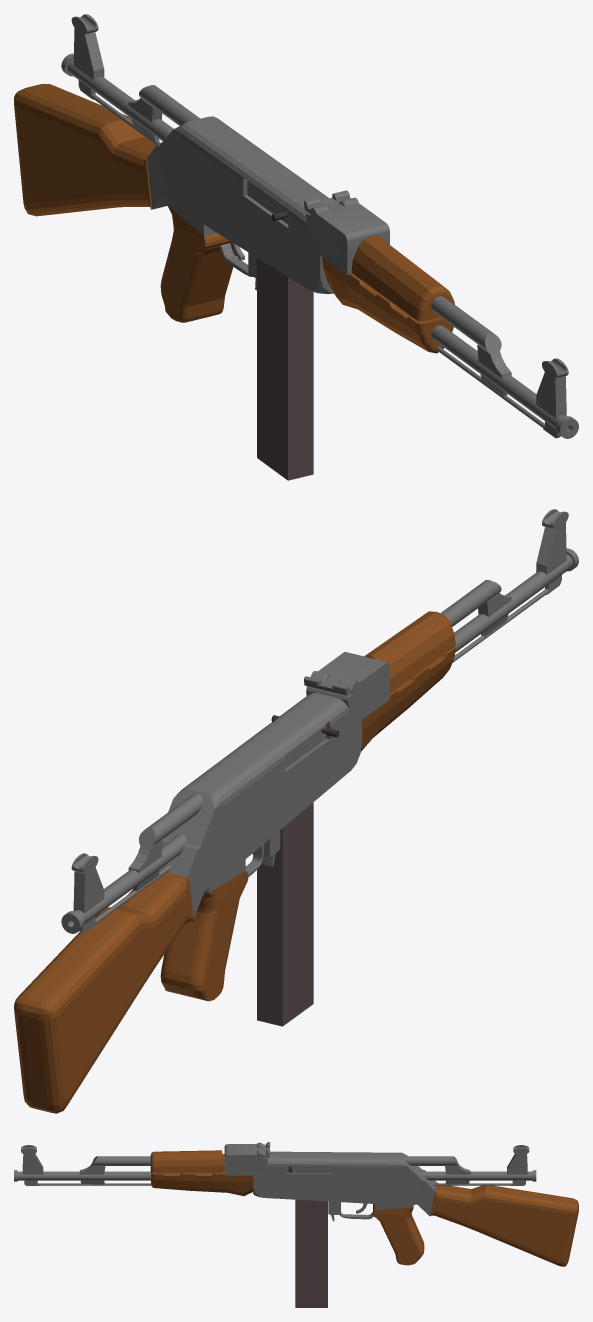
The model's file is Special.fbx.
The picture shows the model from 3 angles, top to bottom: view 1: azimuth 30°, elevation 25°; view 2: azimuth 150°, elevation 25°; view 3: azimuth 270°, elevation 25°; orthographic projection. The views are drawn at different scales.
Parts seen in each view (by area): view 1: Body.006, Stock.005, Cube, Grip.005, Top Front Grip.005, Rear Sight Thingy.005, Bottom Handguard thing.005, Bottom Barrel.005, Bottom Barrel.006, Top Barrel.003, Front Sight.006, Front Sight.005 (+4 smaller); view 2: Stock.005, Body.006, Cube, Grip.005, Rear Sight Thingy.005, Top Front Grip.005, Bottom Handguard thing.005, Bottom Barrel.005, Bottom Barrel.006, Top Barrel.004, Front Sight.005, Front Sight.006 (+1 smaller); view 3: Body.006, Stock.005, Cube, Grip.005, Bottom Handguard thing.005, Top Front Grip.005, Rear Sight Thingy.005, Bottom Barrel.005, Bottom Barrel.006, Top Barrel.003, Top Barrel.004, Front Sight.005 (+4 smaller).
Part boxes in pixels (x1,y1,x2,y2): Body.006: (147, 116, 333, 294); Stock.005: (14, 84, 156, 216); Cube: (257, 258, 313, 480); Grip.005: (160, 205, 236, 322); Top Front Grip.005: (351, 235, 454, 321); Rear Sight Thingy.005: (304, 190, 389, 275); Bottom Handguard thing.005: (322, 257, 453, 353); Bottom Barrel.005: (431, 325, 578, 438); Bottom Barrel.006: (61, 53, 173, 141); Top Barrel.003: (431, 296, 501, 354); Front Sight.006: (73, 28, 104, 99); Front Sight.005: (536, 372, 566, 438); Stock.005: (14, 870, 193, 1113); Body.006: (159, 693, 362, 918); Cube: (257, 802, 313, 1026); Grip.005: (160, 871, 248, 1001); Rear Sight Thingy.005: (304, 652, 389, 719); Top Front Grip.005: (364, 611, 455, 693); Bottom Handguard thing.005: (361, 646, 455, 751); Bottom Barrel.005: (454, 548, 578, 652); Bottom Barrel.006: (61, 834, 186, 933); Top Barrel.004: (139, 793, 202, 849); Front Sight.005: (536, 523, 566, 594); Front Sight.006: (73, 867, 104, 933); Body.006: (253, 1151, 435, 1221); Stock.005: (430, 1181, 578, 1266); Cube: (295, 1199, 327, 1307); Grip.005: (373, 1204, 424, 1265); Bottom Handguard thing.005: (151, 1171, 253, 1196); Top Front Grip.005: (150, 1150, 224, 1172); Rear Sight Thingy.005: (224, 1142, 270, 1175); Bottom Barrel.005: (14, 1170, 151, 1181); Bottom Barrel.006: (419, 1170, 536, 1181); Top Barrel.003: (91, 1156, 150, 1165); Top Barrel.004: (403, 1156, 458, 1165); Front Sight.005: (22, 1153, 43, 1185).
Size of the model in its own units: 31.57 by 142 by 459.
